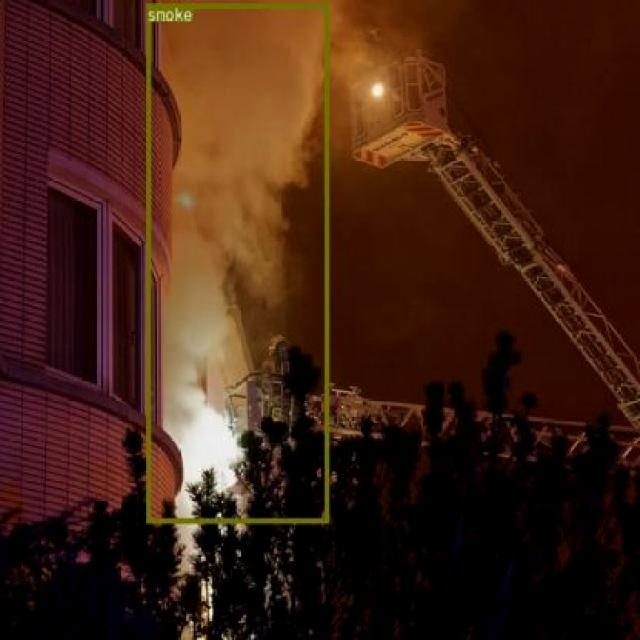smoke: (146, 2, 328, 522)
